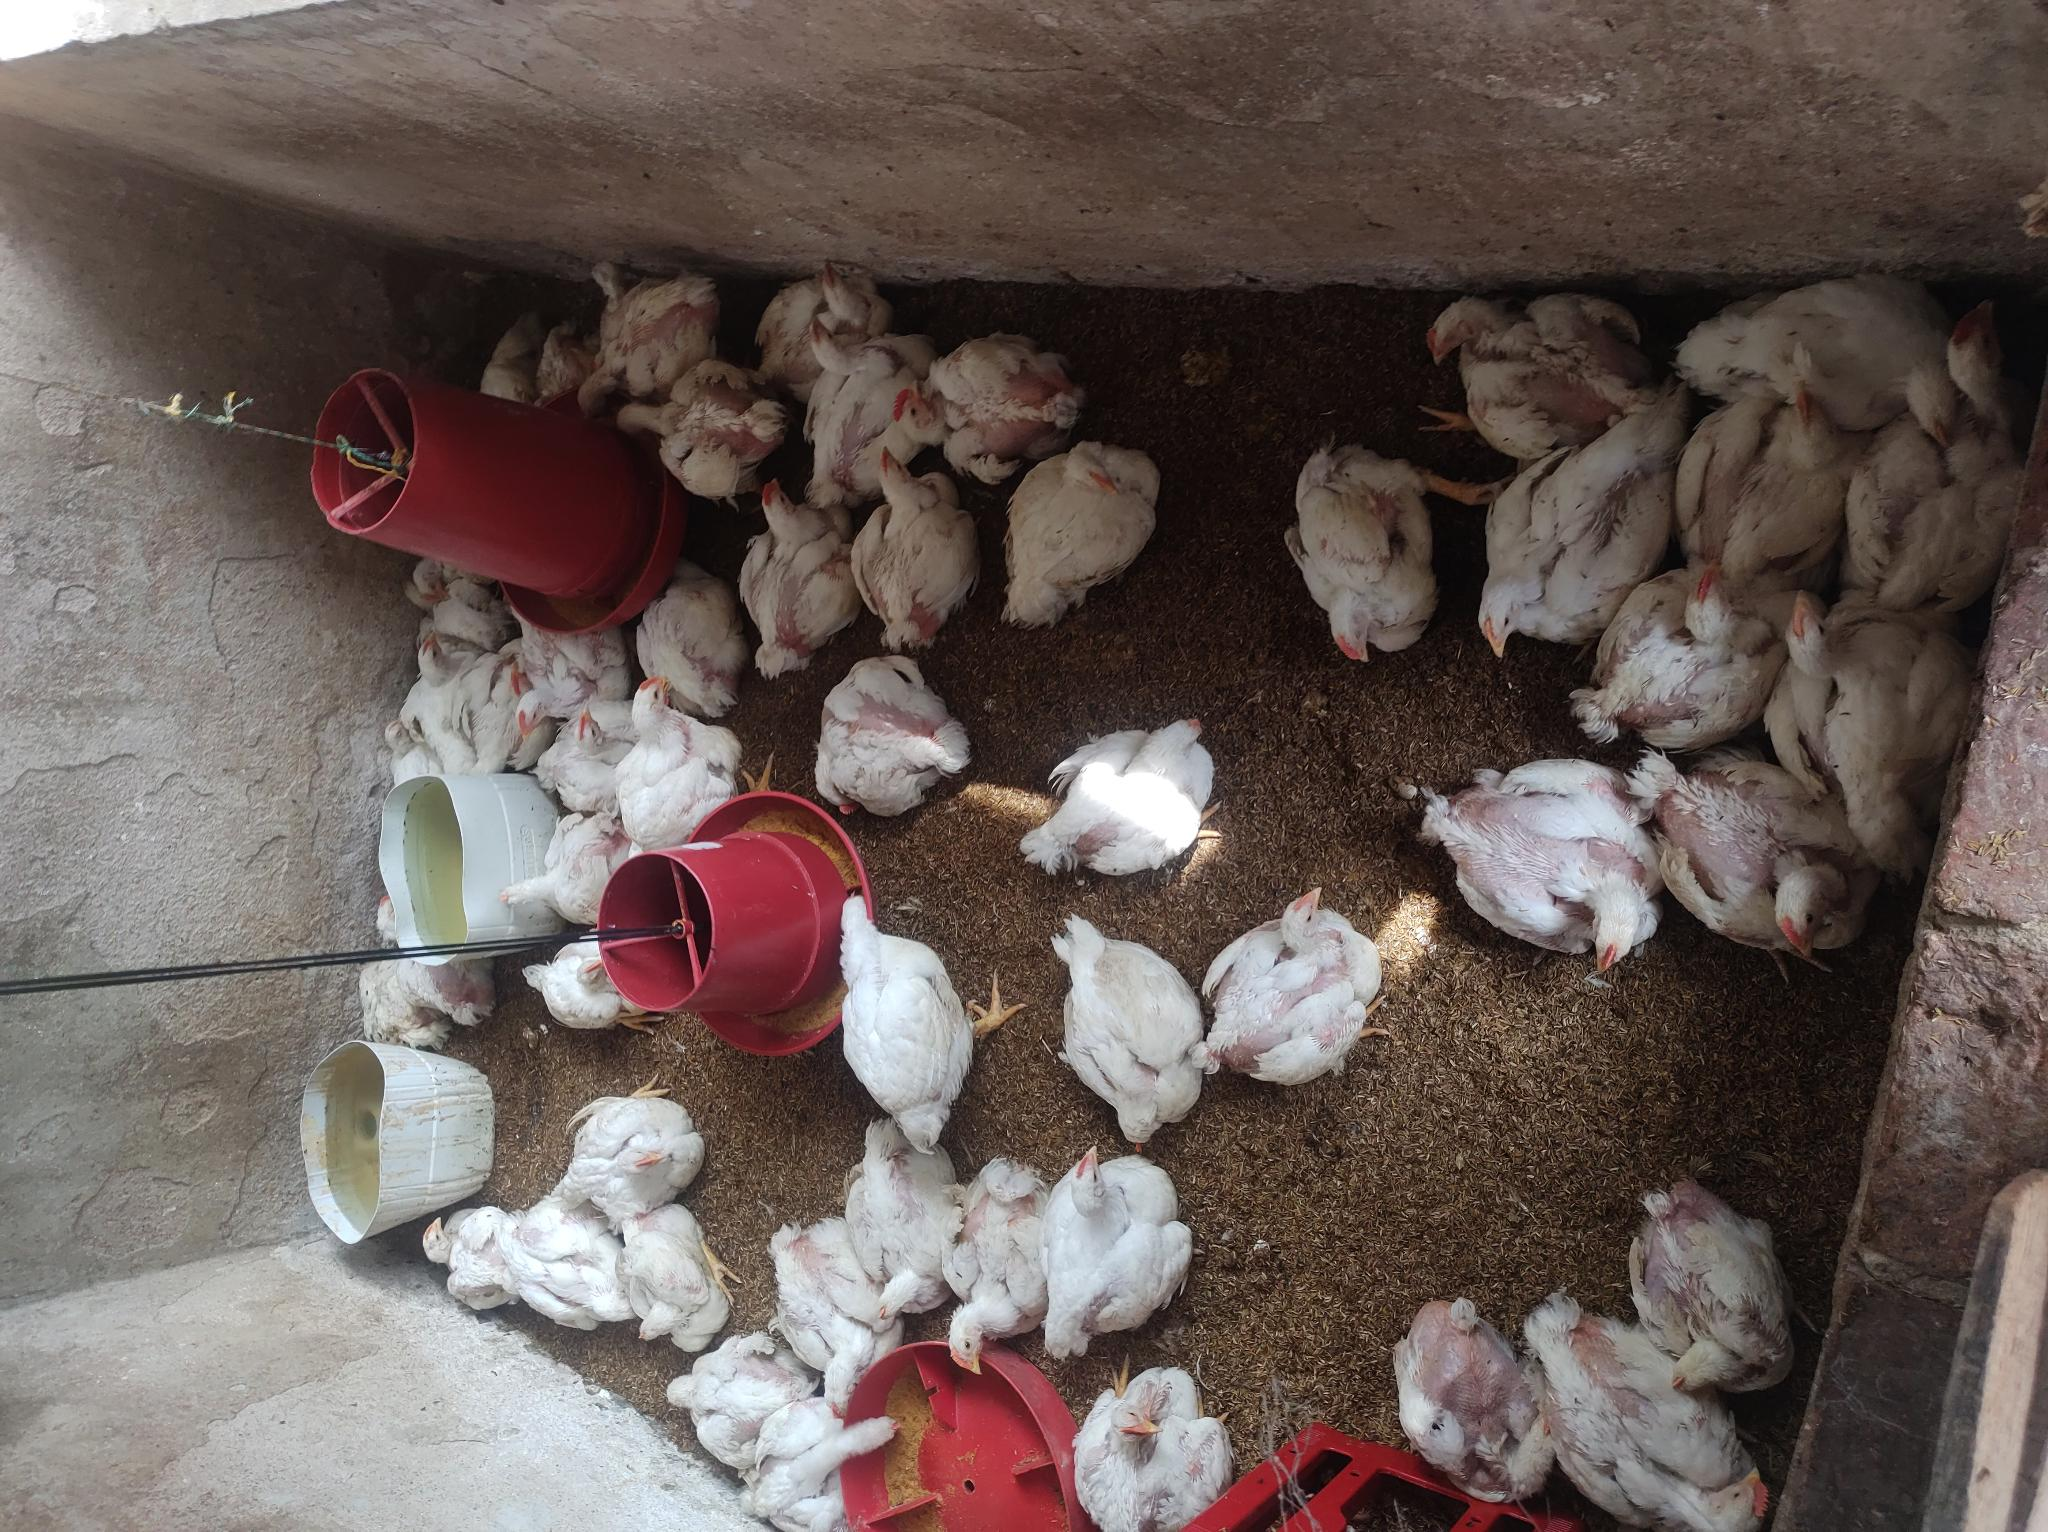Pollos: (1511, 1283, 1791, 1532), (1840, 291, 2040, 607), (1631, 1131, 1866, 1389), (1470, 407, 1688, 668), (1643, 752, 1881, 985), (1422, 745, 1646, 985), (806, 887, 1001, 1152), (1377, 1278, 1569, 1508), (1707, 262, 1974, 426), (1787, 583, 1961, 826), (1017, 716, 1245, 900), (1282, 434, 1446, 669), (994, 433, 1174, 637), (1202, 883, 1371, 1093), (1675, 369, 1845, 574), (1602, 552, 1778, 747), (1075, 1352, 1256, 1532), (750, 1213, 933, 1390), (1427, 280, 1643, 426), (1054, 909, 1192, 1136), (833, 1118, 985, 1315), (1051, 1149, 1202, 1337), (901, 336, 1100, 478), (570, 267, 724, 439), (473, 784, 668, 917), (566, 1081, 750, 1217), (735, 476, 862, 669), (349, 896, 500, 1057), (611, 679, 755, 846), (853, 447, 973, 645), (732, 1402, 927, 1522), (948, 1155, 1059, 1366), (611, 364, 783, 496), (788, 307, 915, 480), (812, 665, 967, 803), (648, 1329, 825, 1448), (624, 563, 769, 706), (500, 1183, 615, 1347), (513, 932, 676, 1035), (618, 1205, 745, 1329), (763, 257, 886, 377), (409, 1186, 516, 1316), (518, 620, 595, 734), (481, 299, 550, 406), (550, 695, 627, 776), (566, 237, 640, 312), (399, 623, 468, 687), (381, 718, 446, 784), (381, 573, 457, 623), (496, 652, 549, 698), (412, 552, 462, 594)
